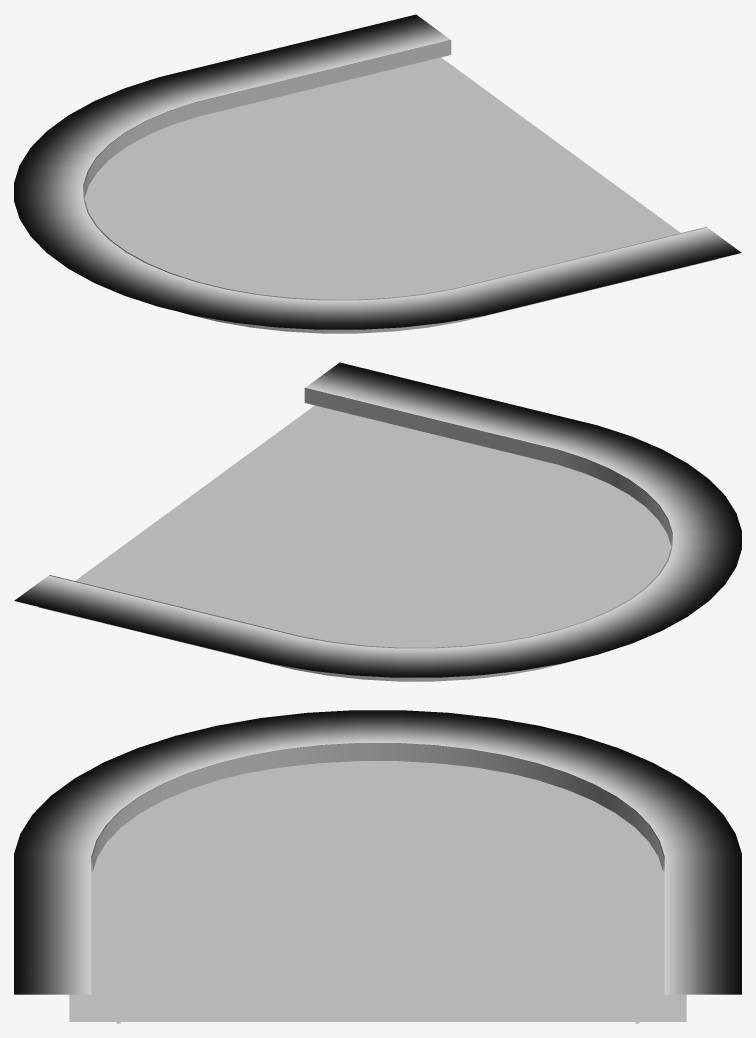
File: CeilingCenter02_2.FBX
3 views of the same model, one above another, from view 1: azimuth 30°, elevation 25°; view 2: azimuth 150°, elevation 25°; view 3: azimuth 270°, elevation 25° (orthographic). The views are drawn at different scales.
Parts seen in each view (by area): view 1: Ceiling, Backlight; view 2: Ceiling, Backlight; view 3: Ceiling, Backlight.
Boxes of the visible parts, x1,y1,x2,y2 form: Ceiling: [83, 40, 717, 333]; Backlight: [14, 14, 741, 329]; Ceiling: [38, 388, 672, 681]; Backlight: [14, 362, 741, 677]; Ceiling: [69, 743, 686, 1021]; Backlight: [14, 710, 741, 994].
Bounding box in the file's own units: 545 × 26.5 × 589.
